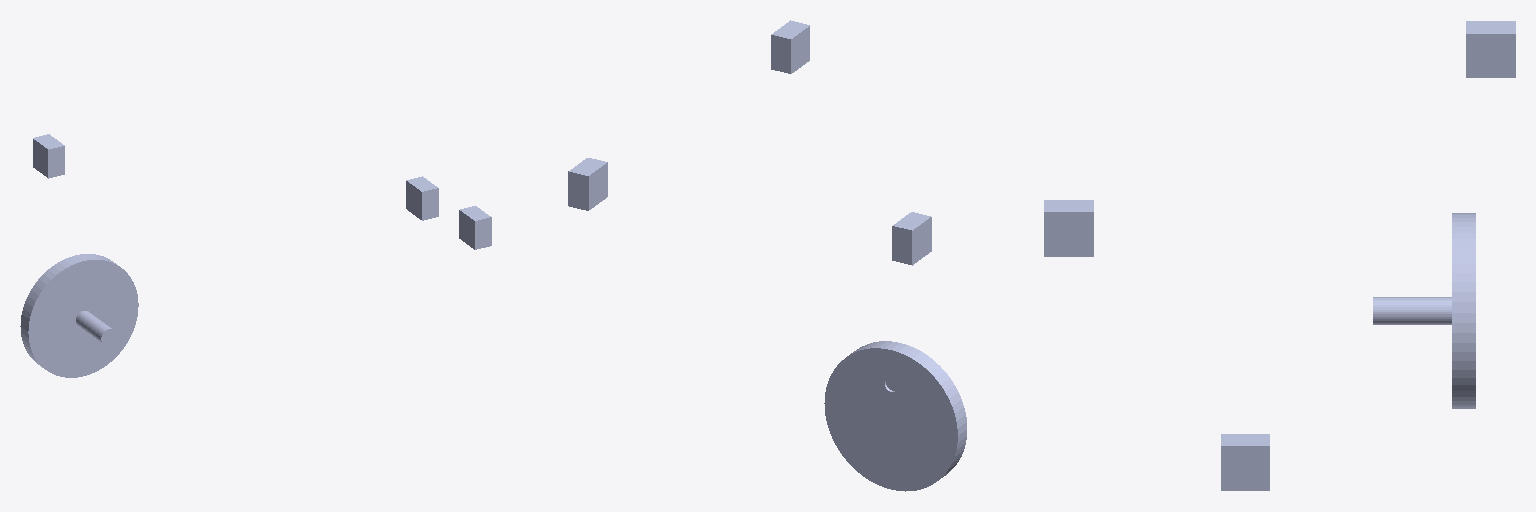
The robot description file, URDF, robot "bot10":
<?xml version="1.0" encoding="utf-8"?>
<!-- This URDF was automatically created by SolidWorks to URDF Exporter! Originally created by [author] ([email redacted]) 
     Commit Version: 1.4.4-24-g24328f6  Build Version: 1.5.7084.36479
     For more information, please see http://wiki.ros.org/sw_urdf_exporter -->
<robot
  name="bot10">
  <link
    name="base_link">
    <inertial>
      <origin
        xyz="0.02776 2.3052E-16 0.048645"
        rpy="0 0 0" />
      <mass
        value="10.2" />
      <inertia
        ixx="0.22281"
        ixy="2.4052E-16"
        ixz="0.0003497"
        iyy="0.20416"
        iyz="1.0588E-16"
        izz="0.35837" />
    </inertial>
    <visual>
      <origin
        xyz="0 0 0"
        rpy="0 0 0" />
      <geometry>
        <mesh
          filename="package://bot10/meshes/base_link.STL" />
      </geometry>
      <material
        name="">
        <color
          rgba="0.79216 0.81961 0.93333 1" />
      </material>
    </visual>
    <collision>
      <origin
        xyz="0 0 0"
        rpy="0 0 0" />
      <geometry>
        <mesh
          filename="package://bot10/meshes/base_link.STL" />
      </geometry>
    </collision>
  </link>
  <link
    name="FRW">
    <inertial>
      <origin
        xyz="0 -7.5392E-05 -0.089381"
        rpy="0 0 0" />
      <mass
        value="0.8334" />
      <inertia
        ixx="0.0021574"
        ixy="1.6263E-19"
        ixz="-8.4703E-21"
        iyy="0.0021606"
        iyz="-8.5571E-07"
        izz="0.0039286" />
    </inertial>
    <visual>
      <origin
        xyz="0 0 0"
        rpy="0 0 0" />
      <geometry>
        <mesh
          filename="package://bot10/meshes/FRW.STL" />
      </geometry>
      <material
        name="">
        <color
          rgba="0.79216 0.81961 0.93333 1" />
      </material>
    </visual>
    <collision>
      <origin
        xyz="0 0 0"
        rpy="0 0 0" />
      <geometry>
        <mesh
          filename="package://bot10/meshes/FRW.STL" />
      </geometry>
    </collision>
  </link>
  <joint
    name="FRWJ"
    type="continuous">
    <origin
      xyz="0.125 -0.13 -0.025"
      rpy="1.5708 0.39309 -3.1416" />
    <parent
      link="base_link" />
    <child
      link="FRW" />
    <axis
      xyz="0 0 1" />
    <safety_controller
      k_velocity="0" />
  </joint>
  <link
    name="FLW">
    <inertial>
      <origin
        xyz="0 -7.5392E-05 -0.089381"
        rpy="0 0 0" />
      <mass
        value="0.8334" />
      <inertia
        ixx="0.0021574"
        ixy="-8.7964E-21"
        ixz="2.7837E-19"
        iyy="0.0021606"
        iyz="-8.5571E-07"
        izz="0.0039286" />
    </inertial>
    <visual>
      <origin
        xyz="0 0 0"
        rpy="0 0 0" />
      <geometry>
        <mesh
          filename="package://bot10/meshes/FLW.STL" />
      </geometry>
      <material
        name="">
        <color
          rgba="0.79216 0.81961 0.93333 1" />
      </material>
    </visual>
    <collision>
      <origin
        xyz="0 0 0"
        rpy="0 0 0" />
      <geometry>
        <mesh
          filename="package://bot10/meshes/FLW.STL" />
      </geometry>
    </collision>
  </link>
  <joint
    name="FLWJ"
    type="continuous">
    <origin
      xyz="0.125000000000004 0.13 -0.025"
      rpy="1.5707963267949 0 0" />
    <parent
      link="base_link" />
    <child
      link="FLW" />
    <axis
      xyz="0 0 1" />
    <safety_controller
      k_velocity="0" />
  </joint>
  <link
    name="RRW">
    <inertial>
      <origin
        xyz="-2.7756E-17 -7.5392E-05 -0.089381"
        rpy="0 0 0" />
      <mass
        value="0.8334" />
      <inertia
        ixx="0.0021574"
        ixy="6.5052E-19"
        ixz="4.6852E-20"
        iyy="0.0021606"
        iyz="-8.5571E-07"
        izz="0.0039286" />
    </inertial>
    <visual>
      <origin
        xyz="0 0 0"
        rpy="0 0 0" />
      <geometry>
        <mesh
          filename="package://bot10/meshes/RRW.STL" />
      </geometry>
      <material
        name="">
        <color
          rgba="0.79216 0.81961 0.93333 1" />
      </material>
    </visual>
    <collision>
      <origin
        xyz="0 0 0"
        rpy="0 0 0" />
      <geometry>
        <mesh
          filename="package://bot10/meshes/RRW.STL" />
      </geometry>
    </collision>
  </link>
  <joint
    name="RRWJ"
    type="continuous">
    <origin
      xyz="-0.125 -0.13 -0.025"
      rpy="1.5707963267949 0.39309481042652 -3.14159265358979" />
    <parent
      link="base_link" />
    <child
      link="RRW" />
    <axis
      xyz="0 0 1" />
    <safety_controller
      k_velocity="0" />
  </joint>
  <link
    name="RLW">
    <inertial>
      <origin
        xyz="-1.3878E-17 -7.5392E-05 -0.089381"
        rpy="0 0 0" />
      <mass
        value="0.8334" />
      <inertia
        ixx="0.0021574"
        ixy="-8.7964E-21"
        ixz="2.7837E-19"
        iyy="0.0021606"
        iyz="-8.5571E-07"
        izz="0.0039286" />
    </inertial>
    <visual>
      <origin
        xyz="0 0 0"
        rpy="0 0 0" />
      <geometry>
        <mesh
          filename="package://bot10/meshes/RLW.STL" />
      </geometry>
      <material
        name="">
        <color
          rgba="0.79216 0.81961 0.93333 1" />
      </material>
    </visual>
    <collision>
      <origin
        xyz="0 0 0"
        rpy="0 0 0" />
      <geometry>
        <mesh
          filename="package://bot10/meshes/RLW.STL" />
      </geometry>
    </collision>
  </link>
  <joint
    name="RLWJ"
    type="continuous">
    <origin
      xyz="-0.125 0.13 -0.025"
      rpy="1.5708 0 0" />
    <parent
      link="base_link" />
    <child
      link="RLW" />
    <axis
      xyz="0 0 1" />
    <safety_controller
      k_velocity="0" />
  </joint>
  <link
    name="LC">
    <inertial>
      <origin
        xyz="0.015 0 0"
        rpy="0 0 0" />
      <mass
        value="0.075" />
      <inertia
        ixx="3.125E-05"
        ixy="-1.6263E-22"
        ixz="4.2352E-22"
        iyy="2.125E-05"
        iyz="-1.3056E-21"
        izz="2.125E-05" />
    </inertial>
    <visual>
      <origin
        xyz="0 0 0"
        rpy="0 0 0" />
      <geometry>
        <mesh
          filename="package://bot10/meshes/LC.STL" />
      </geometry>
      <material
        name="">
        <color
          rgba="0.79216 0.81961 0.93333 1" />
      </material>
    </visual>
    <collision>
      <origin
        xyz="0 0 0"
        rpy="0 0 0" />
      <geometry>
        <mesh
          filename="package://bot10/meshes/LC.STL" />
      </geometry>
    </collision>
  </link>
  <joint
    name="LCJ"
    type="fixed">
    <origin
      xyz="0.05 0.2 0.125"
      rpy="1.5707963267949 0 1.5707963267949" />
    <parent
      link="base_link" />
    <child
      link="LC" />
    <axis
      xyz="0 0 0" />
    <safety_controller
      k_velocity="0" />
  </joint>
  <link
    name="FC">
    <inertial>
      <origin
        xyz="0.015 0 -1.0663E-16"
        rpy="0 0 0" />
      <mass
        value="0.075" />
      <inertia
        ixx="3.125E-05"
        ixy="-9.1835E-38"
        ixz="4.2352E-22"
        iyy="2.125E-05"
        iyz="-3.3633E-21"
        izz="2.125E-05" />
    </inertial>
    <visual>
      <origin
        xyz="0 0 0"
        rpy="0 0 0" />
      <geometry>
        <mesh
          filename="package://bot10/meshes/FC.STL" />
      </geometry>
      <material
        name="">
        <color
          rgba="0.79216 0.81961 0.93333 1" />
      </material>
    </visual>
    <collision>
      <origin
        xyz="0 0 0"
        rpy="0 0 0" />
      <geometry>
        <mesh
          filename="package://bot10/meshes/FC.STL" />
      </geometry>
    </collision>
  </link>
  <joint
    name="FCJ"
    type="fixed">
    <origin
      xyz="0.225 0 0.04"
      rpy="1.5707963267949 0 0" />
    <parent
      link="base_link" />
    <child
      link="FC" />
    <axis
      xyz="0 0 0" />
    <safety_controller
      k_velocity="0" />
  </joint>
  <link
    name="RC">
    <inertial>
      <origin
        xyz="0.015 0 -6.9389E-18"
        rpy="0 0 0" />
      <mass
        value="0.075" />
      <inertia
        ixx="3.125E-05"
        ixy="-1.6263E-22"
        ixz="4.2352E-22"
        iyy="2.125E-05"
        iyz="-1.3056E-21"
        izz="2.125E-05" />
    </inertial>
    <visual>
      <origin
        xyz="0 0 0"
        rpy="0 0 0" />
      <geometry>
        <mesh
          filename="package://bot10/meshes/RC.STL" />
      </geometry>
      <material
        name="">
        <color
          rgba="0.79216 0.81961 0.93333 1" />
      </material>
    </visual>
    <collision>
      <origin
        xyz="0 0 0"
        rpy="0 0 0" />
      <geometry>
        <mesh
          filename="package://bot10/meshes/RC.STL" />
      </geometry>
    </collision>
  </link>
  <joint
    name="RCJ"
    type="fixed">
    <origin
      xyz="0.0500000000000001 -0.23 0.125"
      rpy="1.5707963267949 0 1.5707963267949" />
    <parent
      link="base_link" />
    <child
      link="RC" />
    <axis
      xyz="0 0 0" />
    <safety_controller
      k_velocity="0" />
  </joint>
  <!--<link
    name="EP1">
    <inertial>
      <origin
        xyz="0.12296 0 2.403E-16"
        rpy="0 0 0" />
      <mass
        value="0.17181" />
      <inertia
        ixx="1.2311E-05"
        ixy="-1.129E-20"
        ixz="-1.3847E-20"
        iyy="0.0057549"
        iyz="-4.5234E-22"
        izz="0.0057544" />
    </inertial>
    <visual>
      <origin
        xyz="0 0 0"
        rpy="0 0 0" />
      <geometry>
        <mesh
          filename="package://bot10/meshes/EP1.STL" />
      </geometry>
      <material
        name="">
        <color
          rgba="0.79216 0.81961 0.93333 1" />
      </material>
    </visual>
    <collision>
      <origin
        xyz="0 0 0"
        rpy="0 0 0" />
      <geometry>
        <mesh
          filename="package://bot10/meshes/EP1.STL" />
      </geometry>
    </collision>
  </link>
  <joint
    name="EP1J"
    type="prismatic">
    <origin
      xyz="0 0 0.305"
      rpy="1.5707963267949 0 0" />
    <parent
      link="base_link" />
    <child
      link="EP1" />
    <axis
      xyz="1 0 0" />
    <limit
      lower="-0.34"
      upper="0"
      effort="10"
      velocity="0.1" />
    <safety_controller
      k_velocity="0" />
  </joint>
  <link
    name="EP2">
    <inertial>
      <origin
        xyz="1.6653E-16 0.10207 -1.3532E-17"
        rpy="0 0 0" />
      <mass
        value="0.11609" />
      <inertia
        ixx="0.001338"
        ixy="-2.6306E-22"
        ixz="-3.3456E-22"
        iyy="1.1509E-05"
        iyz="-9.9964E-21"
        izz="0.001337" />
    </inertial>
    <visual>
      <origin
        xyz="0 0 0"
        rpy="0 0 0" />
      <geometry>
        <mesh
          filename="package://bot10/meshes/EP2.STL" />
      </geometry>
      <material
        name="">
        <color
          rgba="0.79216 0.81961 0.93333 1" />
      </material>
    </visual>
    <collision>
      <origin
        xyz="0 0 0"
        rpy="0 0 0" />
      <geometry>
        <mesh
          filename="package://bot10/meshes/EP2.STL" />
      </geometry>
    </collision>
  </link>
  <joint
    name="EP2J"
    type="prismatic">
    <origin
      xyz="0.4025 0 0"
      rpy="0 0 3.1416" />
    <parent
      link="EP1" />
    <child
      link="EP2" />
    <axis
      xyz="0 1 0" />
    <limit
      lower="-0.195"
      upper="0"
      effort="10"
      velocity="0.1" />
    <safety_controller
      k_velocity="0" />
  </joint>
  <link
    name="CH">
    <inertial>
      <origin
        xyz="-5.5511E-17 -0.026916 -2.3338E-16"
        rpy="0 0 0" />
      <mass
        value="0.033597" />
      <inertia
        ixx="5.6903E-06"
        ixy="-6.3393E-21"
        ixz="-3.9801E-21"
        iyy="8.1088E-06"
        iyz="-4.5596E-21"
        izz="6.3442E-06" />
    </inertial>
    <visual>
      <origin
        xyz="0 0 0"
        rpy="0 0 0" />
      <geometry>
        <mesh
          filename="package://bot10/meshes/CH.STL" />
      </geometry>
      <material
        name="">
        <color
          rgba="0.79216 0.81961 0.93333 1" />
      </material>
    </visual>
    <collision>
      <origin
        xyz="0 0 0"
        rpy="0 0 0" />
      <geometry>
        <mesh
          filename="package://bot10/meshes/CH.STL" />
      </geometry>
    </collision>
  </link>
  <joint
    name="CHJ"
    type="revolute">
    <origin
      xyz="0 0.252500000000003 0"
      rpy="3.14159265358979 0 0" />
    <parent
      link="EP2" />
    <child
      link="CH" />
    <axis
      xyz="0 0 1" />
    <limit
      lower="-0.7854"
      upper="0"
      effort="10"
      velocity="0.125" />
    <safety_controller
      k_velocity="0" />
  </joint>
  <link
    name="F1">
    <inertial>
      <origin
        xyz="-0.15654 -0.0064437 0.34858"
        rpy="0 0 0" />
      <mass
        value="0.026963" />
      <inertia
        ixx="3.4145E-05"
        ixy="-3.7053E-06"
        ixz="1.3008E-11"
        iyy="7.6085E-06"
        iyz="-4.7018E-11"
        izz="3.5529E-05" />
    </inertial>
    <visual>
      <origin
        xyz="0 0 0"
        rpy="0 0 0" />
      <geometry>
        <mesh
          filename="package://bot10/meshes/F1.STL" />
      </geometry>
      <material
        name="">
        <color
          rgba="0.79216 0.81961 0.93333 1" />
      </material>
    </visual>
    <collision>
      <origin
        xyz="0 0 0"
        rpy="0 0 0" />
      <geometry>
        <mesh
          filename="package://bot10/meshes/F1.STL" />
      </geometry>
    </collision>
  </link>
  <joint
    name="F1J"
    type="revolute">
    <origin
      xyz="0.4025 -0.0525 0"
      rpy="-0.42143 -0.99089 0.49195" />
    <parent
      link="CH" />
    <child
      link="F1" />
    <axis
      xyz="0 0 1" />
    <limit
      lower="0"
      upper="1.0472"
      effort="10"
      velocity="0.125" />
    <safety_controller
      k_velocity="0" />
  </joint>
  <link
    name="F2">
    <inertial>
      <origin
        xyz="0.021298 -0.064967 5.5279E-08"
        rpy="0 0 0" />
      <mass
        value="0.026963" />
      <inertia
        ixx="3.4145E-05"
        ixy="-3.7053E-06"
        ixz="1.4921E-11"
        iyy="7.6085E-06"
        iyz="-5.0153E-11"
        izz="3.5529E-05" />
    </inertial>
    <visual>
      <origin
        xyz="0 0 0"
        rpy="0 0 0" />
      <geometry>
        <mesh
          filename="package://bot10/meshes/F2.STL" />
      </geometry>
      <material
        name="">
        <color
          rgba="0.79216 0.81961 0.93333 1" />
      </material>
    </visual>
    <collision>
      <origin
        xyz="0 0 0"
        rpy="0 0 0" />
      <geometry>
        <mesh
          filename="package://bot10/meshes/F2.STL" />
      </geometry>
    </collision>
  </link>
  <joint
    name="F2J"
    type="revolute">
    <origin
      xyz="-0.014321 -0.042 0"
      rpy="3.1416 0 2.8798" />
    <parent
      link="CH" />
    <child
      link="F2" />
    <axis
      xyz="0 0 1" />
    <limit
      lower="0"
      upper="1.0472"
      effort="10"
      velocity="0.125" />
    <safety_controller
      k_velocity="0" />
  </joint>
  <link
    name="F3">
    <inertial>
      <origin
        xyz="0.00022086 -0.059319 -0.037402"
        rpy="0 0 0" />
      <mass
        value="0.026963" />
      <inertia
        ixx="3.4145E-05"
        ixy="-3.7053E-06"
        ixz="1.4729E-11"
        iyy="7.6085E-06"
        iyz="-5.8707E-11"
        izz="3.5528E-05" />
    </inertial>
    <visual>
      <origin
        xyz="0 0 0"
        rpy="0 0 0" />
      <geometry>
        <mesh
          filename="package://bot10/meshes/F3.STL" />
      </geometry>
      <material
        name="">
        <color
          rgba="0.79216 0.81961 0.93333 1" />
      </material>
    </visual>
    <collision>
      <origin
        xyz="0 0 0"
        rpy="0 0 0" />
      <geometry>
        <mesh
          filename="package://bot10/meshes/F3.STL" />
      </geometry>
    </collision>
  </link>
  <joint
    name="F3J"
    type="revolute">
    <origin
      xyz="0.0504615242270688 -0.042 -0.0125980762113492"
      rpy="0.421429094018828 0.990894238270137 0.491952211341744" />
    <parent
      link="CH" />
    <child
      link="F3" />
    <axis
      xyz="0 0 1" />
    <limit
      lower="0"
      upper="1.0472"
      effort="10"
      velocity="0.125" />
    <safety_controller
      k_velocity="0" />
  </joint>
  <link
    name="Back">
    <inertial>
      <origin
        xyz="0 0 0"
        rpy="0 0 0" />
      <mass
        value="0" />
      <inertia
        ixx="0"
        ixy="0"
        ixz="0"
        iyy="0"
        iyz="0"
        izz="0" />
    </inertial>
    <visual>
      <origin
        xyz="0 0 0"
        rpy="0 0 0" />
      <geometry>
        <mesh
          filename="package://bot10/meshes/Back.STL" />
      </geometry>
      <material
        name="">
        <color
          rgba="1 1 1 1" />
      </material>
    </visual>
    <collision>
      <origin
        xyz="0 0 0"
        rpy="0 0 0" />
      <geometry>
        <mesh
          filename="package://bot10/meshes/Back.STL" />
      </geometry>
    </collision>
  </link>
  <joint
    name="BJ"
    type="prismatic">
    <origin
      xyz="-0.225 0 0.022817"
      rpy="1.5708 0 0" />
    <parent
      link="base_link" />
    <child
      link="Back" />
    <axis
      xyz="0 1 0" />
    <limit
      lower="-0.15"
      upper="0"
      effort="0"
      velocity="0" />
    <safety_controller
      k_velocity="0" />
  </joint>-->
</robot>

--- Facts derived from the render (not from the file) ---
3 views of the same robot in one strip: view 1: azimuth 30°, elevation 25°; view 2: azimuth 150°, elevation 25°; view 3: azimuth 270°, elevation 25° (orthographic).
Model bot10 with 8 links and 7 joints (4 continuous, 3 fixed), rooted at base_link, posed every joint at zero.
Visible links, largest first — view 1: RLW, RC, FC, LC; view 2: RLW, FC, LC, RC; view 3: RLW, LC, RC, FC.
Link boxes in pixels (box(x1,y1,x2,y2)): RLW: box(20, 254, 138, 377); RC: box(406, 176, 438, 220); FC: box(459, 206, 491, 249); LC: box(33, 134, 64, 178); RLW: box(824, 341, 966, 491); FC: box(568, 158, 607, 210); LC: box(892, 212, 931, 265); RC: box(771, 20, 809, 73); RLW: box(1373, 213, 1475, 408); LC: box(1466, 21, 1515, 77); RC: box(1044, 200, 1093, 256); FC: box(1221, 434, 1269, 490).
Bounding box of the posed robot: 0.705 × 0.48 × 0.4 m (x, y, z).
Meshes: 8 distinct files referenced, 4 mesh visuals loaded (4 binary STL); not drawn: 4 (reference not matched to a file when rendering).